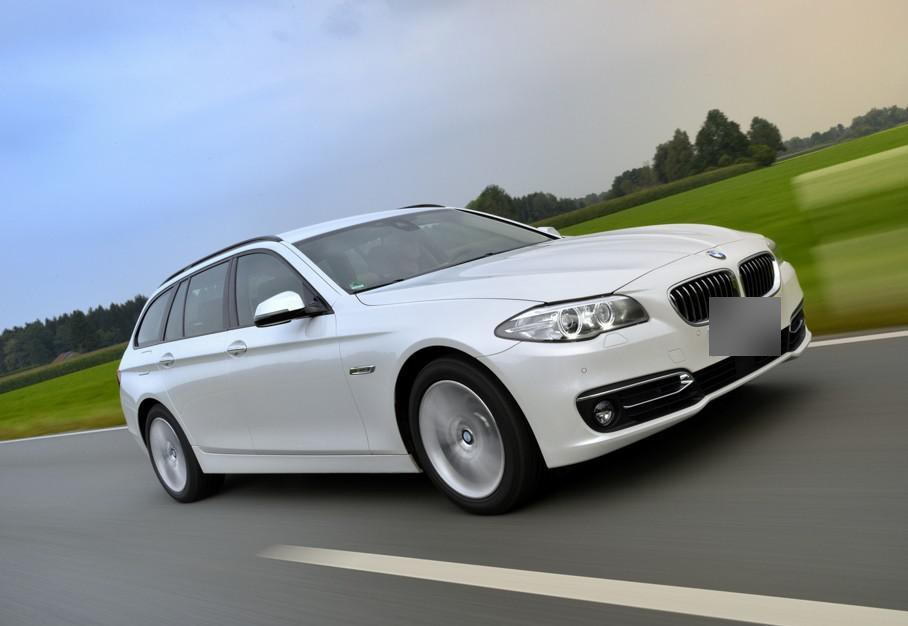Wagon: (117, 203, 814, 519)
